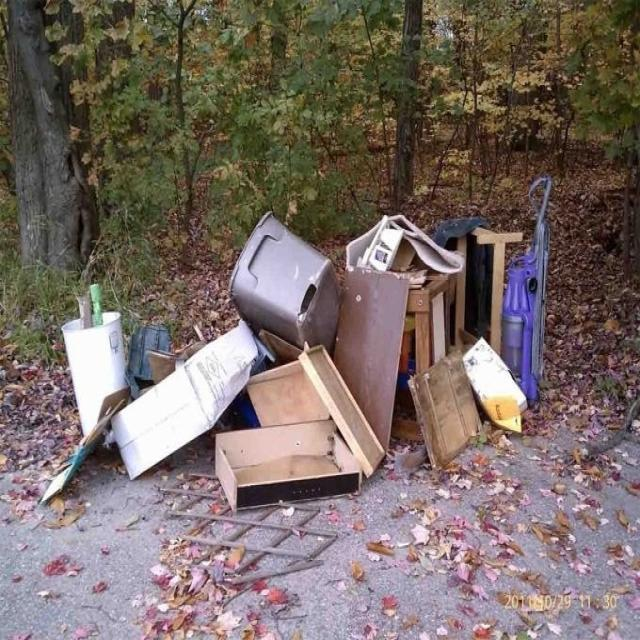Plastics: (206, 196, 337, 347)
